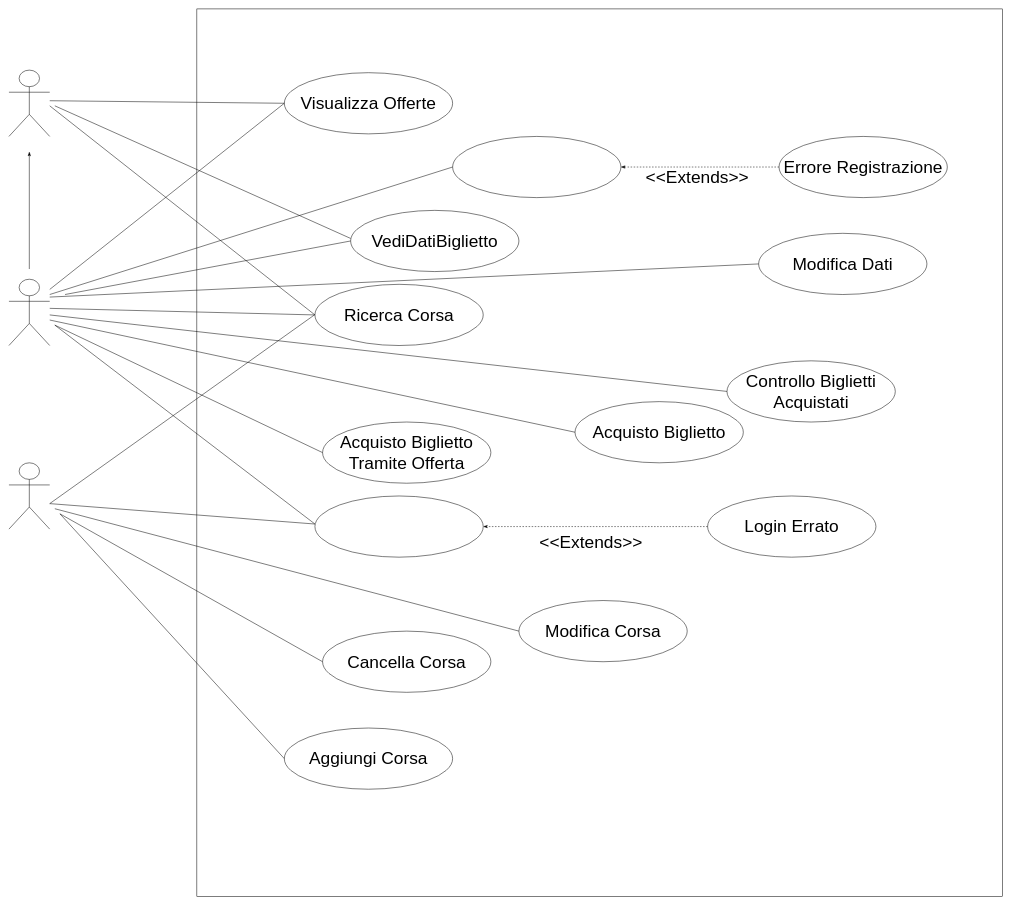
The diagram is 1012 pixels wide and 905 high, and some of its shapes have lost their labels. The shapes that lost their labels are listed below. From the top down, each one's centre as x and y in pixels, then its label:
(29,103): visitatore
(536,167): Registrazione
(29,312): utente
(29,495): admin
(398,526): Login
